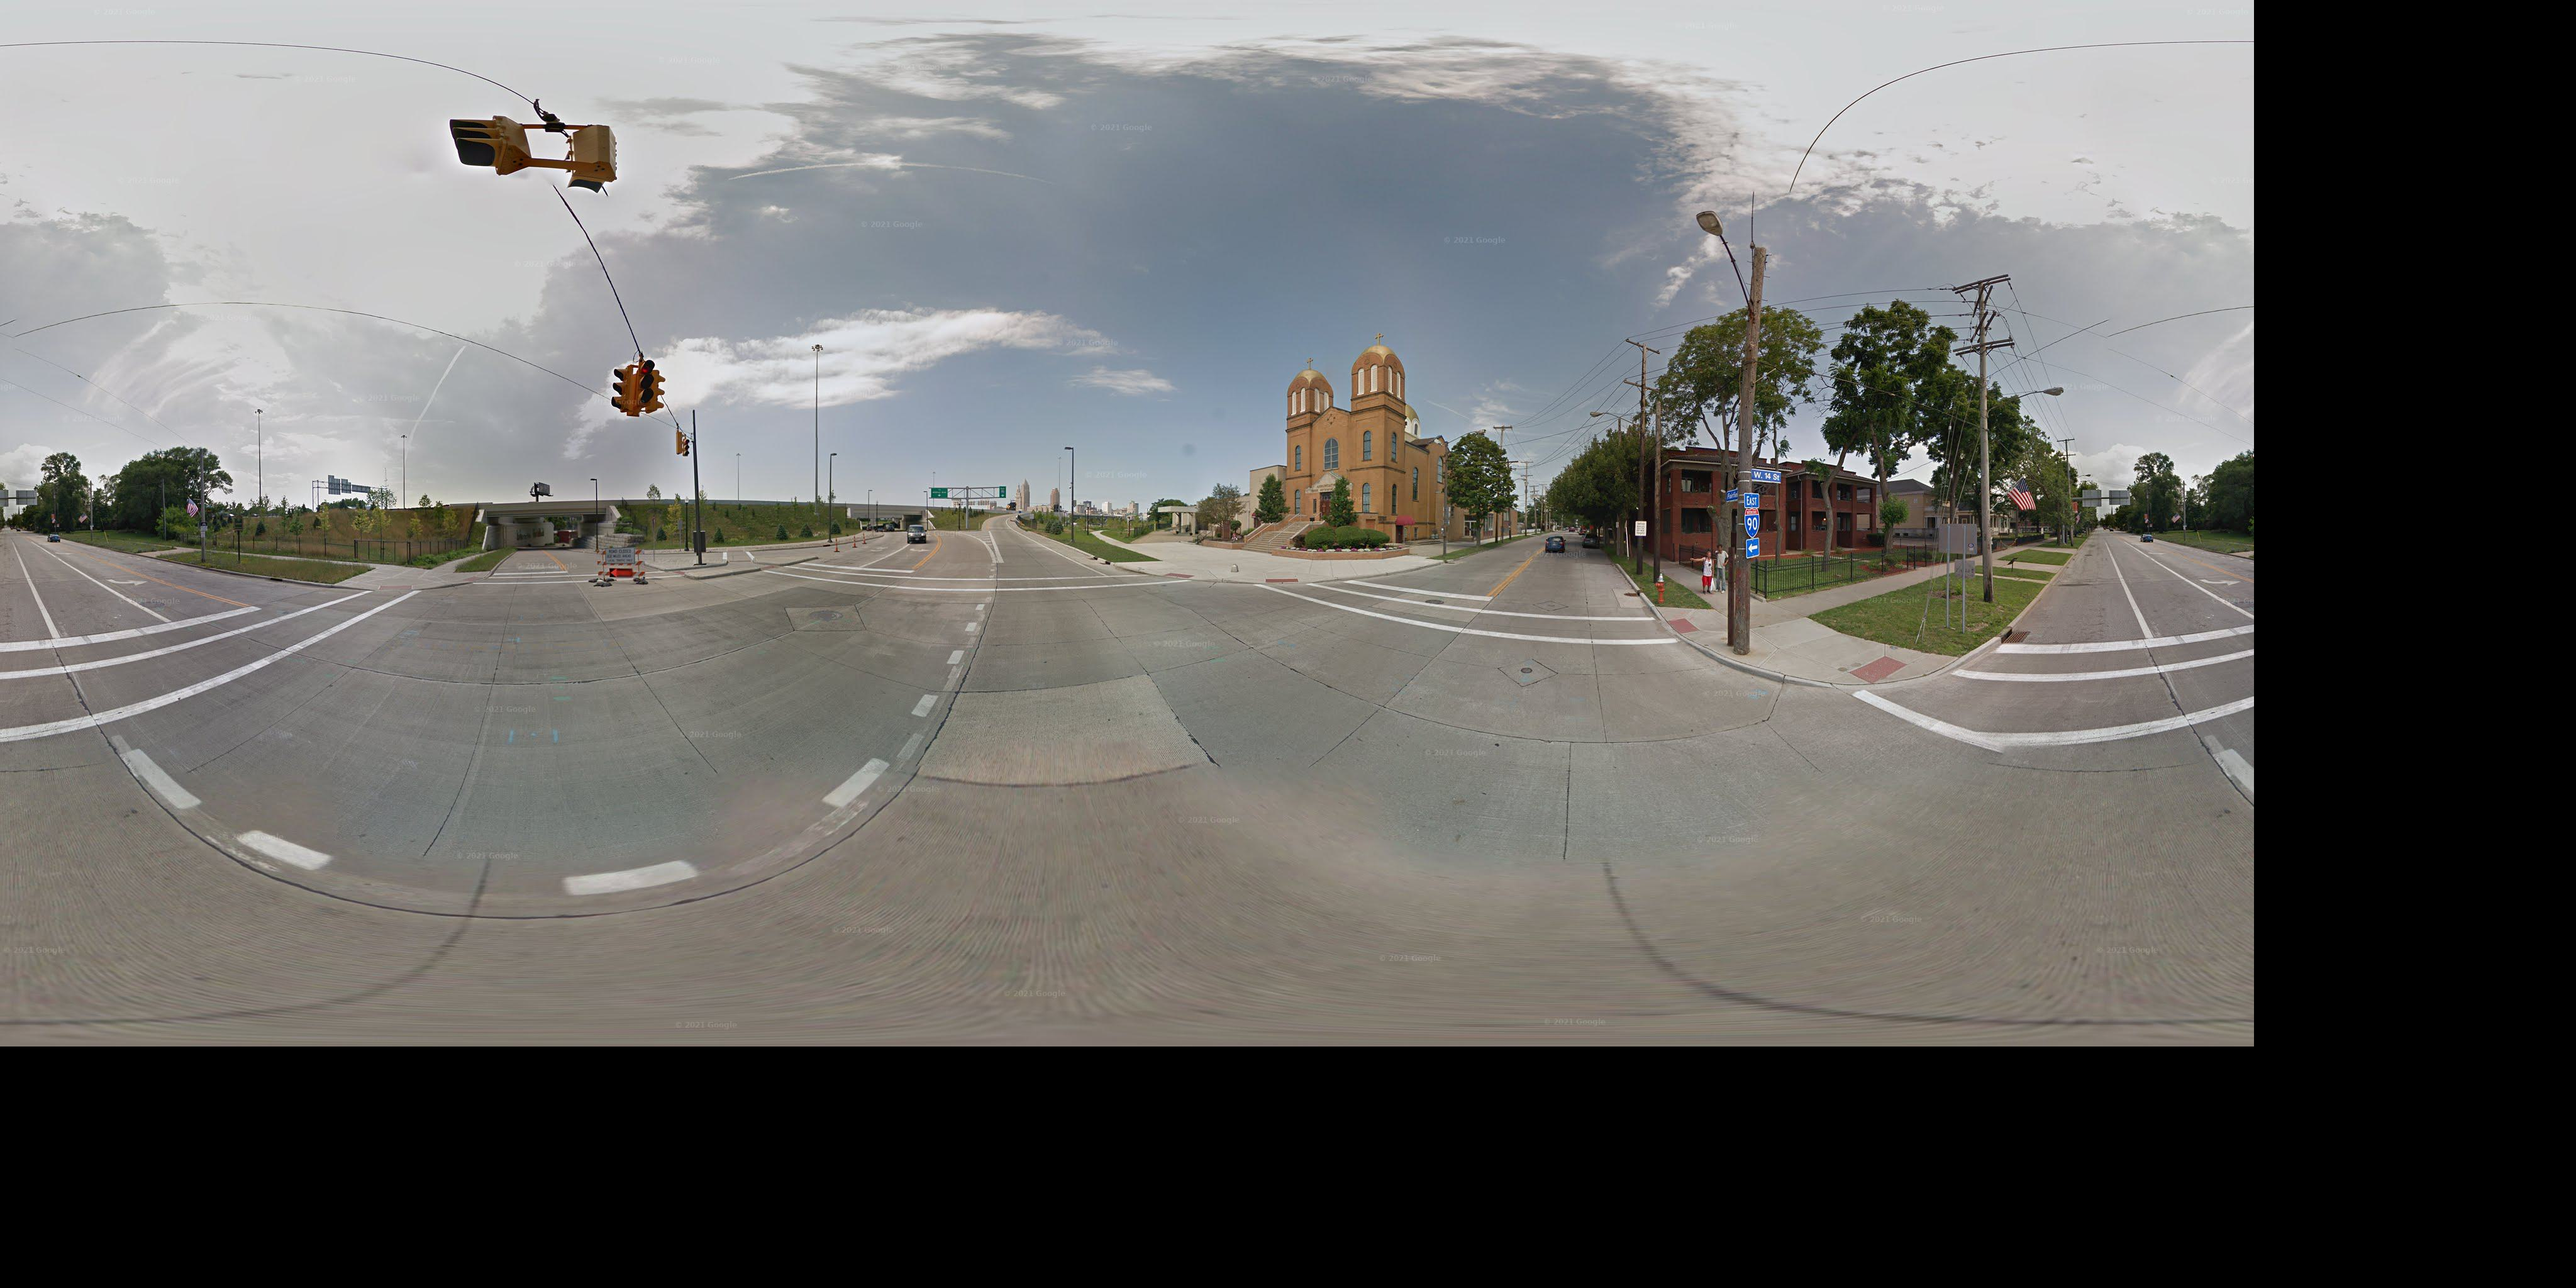Curb Ramp: (1807, 623, 1937, 713), (1631, 595, 1728, 660), (1249, 563, 1308, 590), (368, 573, 419, 598), (1155, 562, 1198, 586), (455, 570, 498, 590), (746, 560, 785, 575), (667, 568, 695, 578)
